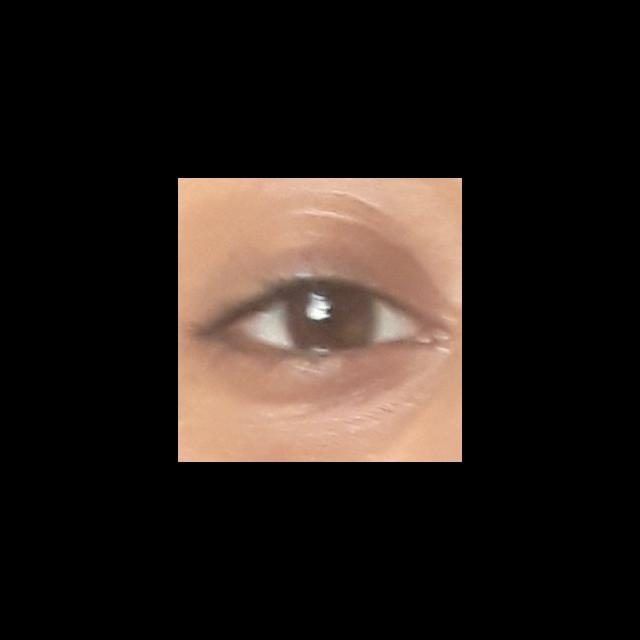eye: (229, 282, 424, 351)
iris: (287, 284, 372, 349)
